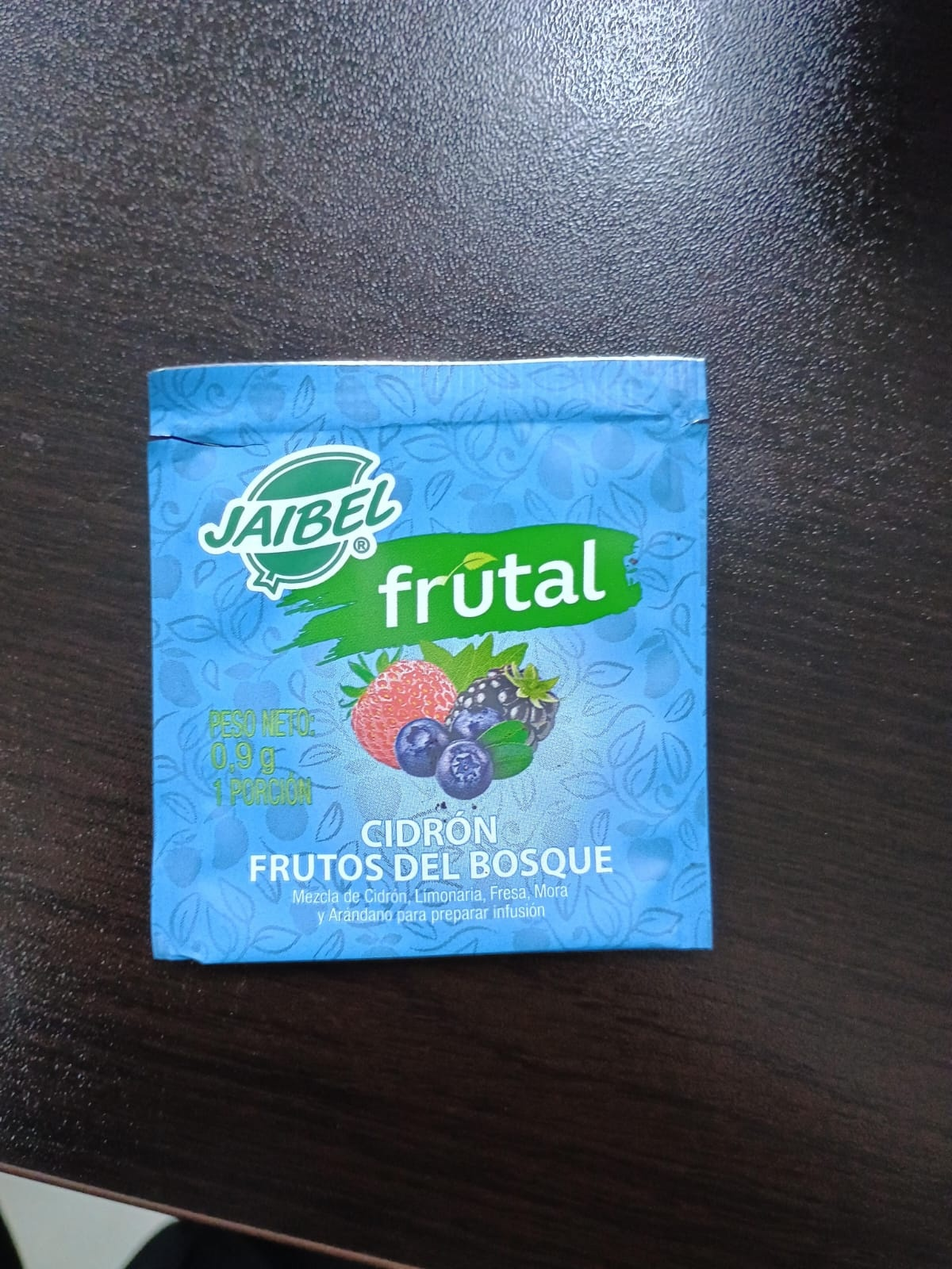Ordinario: (140, 356, 715, 973)
